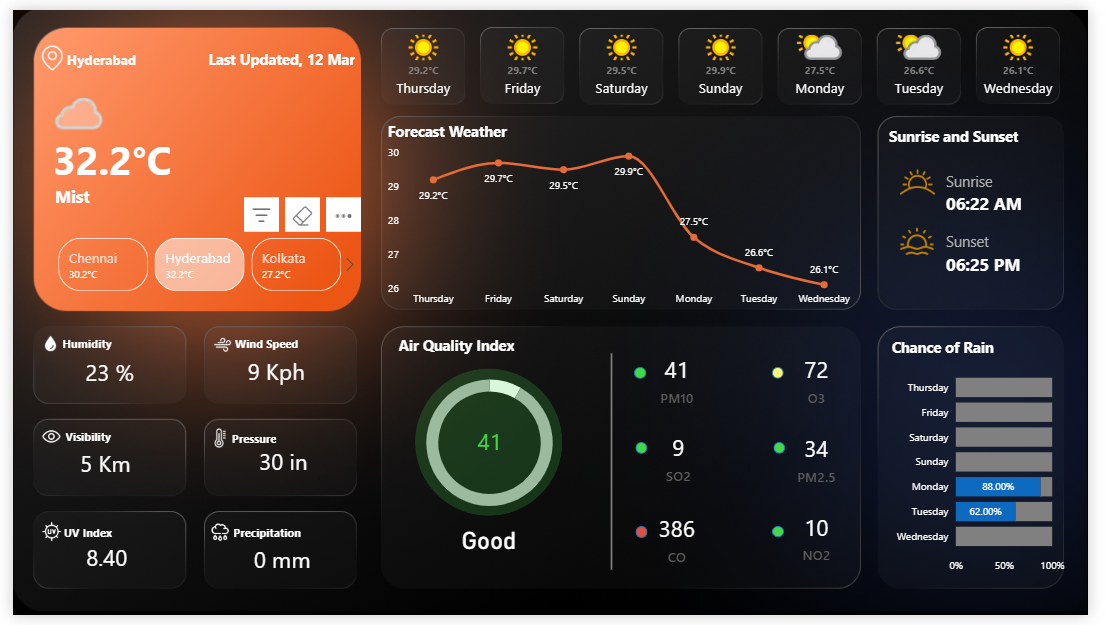

The dashboard page shown, as its layout file describes it:
{"tool":"powerbi","page":{"name":"Page 1","canvas":[1280,720],"ordinal":0},"visuals":[{"type":"advancedSlicerVisual","fields":{"Values":["Locations.location.name"]},"box":[28.3,266.7,388.3,73.3],"z":0},{"type":"shape","box":[48.3,131.7,233.3,90],"z":1000},{"type":"shape","box":[50,193.3,233.3,56.7],"z":2000},{"type":"shape","box":[64,30,160.7,56],"z":3000},{"type":"image","box":[32.7,41.3,29.3,31.3],"z":4000},{"type":"shape","box":[207.3,30,200,56],"z":5000},{"type":"cardVisual","fields":{"Data":["Min(Current.current.condition.icon)"]},"box":[8.3,86.7,148.3,111.7],"z":6000},{"type":"image","box":[31.1,495,30.7,25.7],"z":7000},{"type":"shape","box":[62.3,489.2,95.4,36.9],"z":8000},{"type":"image","box":[31.1,388.1,28.3,19.5],"z":9000},{"type":"shape","box":[59.2,379.2,95.4,36.9],"z":10000},{"type":"image","box":[238.2,388.2,23.9,21.8],"z":11000},{"type":"shape","box":[263.9,379.3,111.4,36.8],"z":12000},{"type":"image","box":[234.6,498.6,25.4,22.9],"z":13000},{"type":"image","box":[31.5,609.2,28.5,23.8],"z":14000},{"type":"image","box":[234.7,609.3,25.3,25.3],"z":15000},{"type":"shape","box":[60,603.1,95.4,36.9],"z":16000},{"type":"shape","box":[262,604,107.3,36.7],"z":17000},{"type":"shape","box":[260,491.4,95.7,37.1],"z":18000},{"type":"card","fields":{"Values":["_Measures.Humidity"]},"box":[63.8,410,101.2,43.8],"z":19000},{"type":"card","fields":{"Values":["_Measures.Wind_Speed"]},"box":[260,407.5,105,47.5],"z":20000},{"type":"card","fields":{"Values":["_Measures.Pressure"]},"box":[255,510,132.5,55],"z":21000},{"type":"card","fields":{"Values":["Sum(Current.current.uv)"]},"box":[55,627.5,111.9,51.2],"z":22000},{"type":"card","fields":{"Values":["_Measures.Precipitation"]},"box":[268.8,631.2,101.2,45],"z":23000},{"type":"card","fields":{"Values":["_Measures.Visibilty"]},"box":[35,508.3,148.3,61.7],"z":24000},{"type":"advancedSlicerVisual","fields":{"Values":["Forecast_Day.Day_Name"]},"box":[428.3,23.3,828.3,98.3],"z":25000},{"type":"lineChart","title":"Forecast Weather","fields":{"Y":["Sum(Forecast_Day.forecast.forecastday.day.avgtemp_c)"],"Category":["Forecast_Day.Day_Name"]},"box":[441.2,131.2,566.2,228.8],"z":26000},{"type":"shape","box":[1042.9,131.4,181.4,37.1],"z":27000},{"type":"shape","box":[1110,202.9,134.3,52.9],"z":28000},{"type":"shape","box":[1110,275.7,134.3,54.3],"z":29000},{"type":"shape","box":[1110,177.1,134.3,52.9],"z":30000},{"type":"shape","box":[1110,248.6,134.3,54.3],"z":31000},{"type":"image","box":[1042.9,255.7,67.1,40],"z":32000},{"type":"image","box":[1037.1,177.1,78.6,55.7],"z":33000},{"type":"hundredPercentStackedBarChart","title":"Chance of Rain","fields":{"Category":["Forecast_Day.Day_Name"],"Y":["Sum(Forecast_Day.forecast.forecastday.day.daily_chance_of_rain)","_Measures.Left_value_Rain"]},"box":[1041.4,388.6,215.7,290],"z":34000},{"type":"shape","box":[458.3,380,181.7,36.7],"z":35000},{"type":"card","fields":{"Values":["Sum(Current.current.air_quality.pm2_5)"]},"box":[903.3,492.4,105.2,81.4],"z":36000},{"type":"card","fields":{"Values":["Sum(Current.current.air_quality.co)"]},"box":[738.3,588.3,105,81.7],"z":37000},{"type":"card","fields":{"Values":["Sum(Current.current.air_quality.so2)"]},"box":[740,491.7,105,81.7],"z":38000},{"type":"card","fields":{"Values":["Sum(Current.current.air_quality.o3)"]},"box":[903.8,397.6,105.2,81.9],"z":39000},{"type":"card","fields":{"Values":["Sum(Current.current.air_quality.pm10)"]},"box":[738.3,398.3,105,81.7],"z":40000},{"type":"card","fields":{"Values":["Sum(Current.current.air_quality.no2)"]},"box":[904.3,586.2,105.2,81.9],"z":41000},{"type":"shape","box":[740,425.4,14.6,14],"z":42000},{"type":"shape","box":[741,515,14,14],"z":43000},{"type":"shape","box":[904.3,424.8,13.8,13.8],"z":44000},{"type":"shape","box":[904.8,514.3,13.8,13.8],"z":45000},{"type":"shape","box":[904.3,613.8,14.3,13.3],"z":46000},{"type":"shape","box":[740.7,613.6,14.3,14.3],"z":47000},{"type":"shape","box":[677.1,408.6,71.4,257.1],"z":48000},{"type":"card","fields":{"Values":["Sum(Current.current.air_quality.pm10)"]},"box":[502.7,461.8,127.3,103.6],"z":49000},{"type":"donutChart","fields":{"Y":["Sum(Current.current.air_quality.pm10)","_Measures.Left_value_PM10"]},"box":[467.3,403.6,198.2,222.7],"z":50000},{"type":"shape","box":[479.1,427.3,175.5,175.5],"z":51000},{"type":"card","fields":{"Values":["_Measures.AQI_StatusAQI Status Text"]},"box":[431.7,598.3,268.3,61.7],"z":52000}]}

Visuals, with their boxes in screenshot pixels (x1, y1, x2, y2), scaled from the page's 1280x720 canvas onto the 1106x625 screenshot:
advancedSlicerVisual - Locations.location.name: (24, 232, 360, 295)
shape: (42, 114, 243, 192)
shape: (43, 168, 245, 217)
shape: (55, 26, 194, 75)
image: (28, 36, 54, 63)
shape: (179, 26, 352, 75)
cardVisual - Min(Current.current.condition.icon): (7, 75, 135, 172)
image: (27, 430, 53, 452)
shape: (54, 425, 136, 457)
image: (27, 337, 51, 354)
shape: (51, 329, 134, 361)
image: (206, 337, 226, 356)
shape: (228, 329, 324, 361)
image: (203, 433, 225, 453)
image: (27, 529, 52, 549)
image: (203, 529, 225, 551)
shape: (52, 524, 134, 556)
shape: (226, 524, 319, 556)
shape: (225, 427, 307, 459)
card - _Measures.Humidity: (55, 356, 143, 394)
card - _Measures.Wind_Speed: (225, 354, 315, 395)
card - _Measures.Pressure: (220, 443, 335, 490)
card - Sum(Current.current.uv): (48, 545, 144, 589)
card - _Measures.Precipitation: (232, 548, 320, 587)
card - _Measures.Visibilty: (30, 441, 158, 495)
advancedSlicerVisual - Forecast_Day.Day_Name: (370, 20, 1086, 106)
"Forecast Weather" lineChart: (381, 114, 870, 312)
shape: (901, 114, 1058, 146)
shape: (959, 176, 1075, 222)
shape: (959, 239, 1075, 286)
shape: (959, 154, 1075, 200)
shape: (959, 216, 1075, 263)
image: (901, 222, 959, 257)
image: (896, 154, 964, 202)
"Chance of Rain" hundredPercentStackedBarChart: (900, 337, 1086, 589)
shape: (396, 330, 553, 362)
card - Sum(Current.current.air_quality.pm2_5): (781, 427, 871, 498)
card - Sum(Current.current.air_quality.co): (638, 511, 729, 582)
card - Sum(Current.current.air_quality.so2): (639, 427, 730, 498)
card - Sum(Current.current.air_quality.o3): (781, 345, 872, 416)
card - Sum(Current.current.air_quality.pm10): (638, 346, 729, 417)
card - Sum(Current.current.air_quality.no2): (781, 509, 872, 580)
shape: (639, 369, 652, 381)
shape: (640, 447, 652, 459)
shape: (781, 369, 793, 381)
shape: (782, 446, 794, 458)
shape: (781, 533, 794, 544)
shape: (640, 533, 652, 545)
shape: (585, 355, 647, 578)
card - Sum(Current.current.air_quality.pm10): (434, 401, 544, 491)
donutChart - Sum(Current.current.air_quality.pm10) x _Measures.Left_value_PM10: (404, 350, 575, 544)
shape: (414, 371, 566, 523)
card - _Measures.AQI_StatusAQI Status Text: (373, 519, 605, 573)
